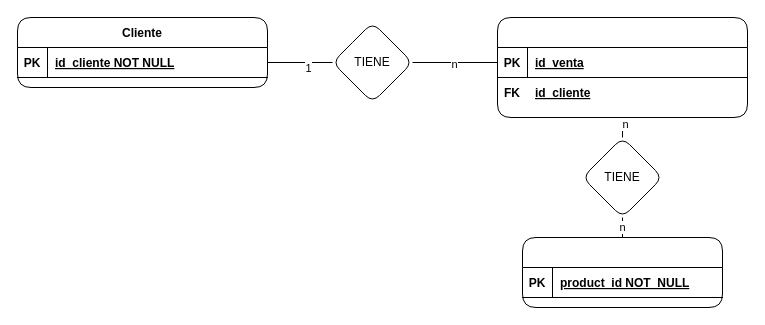
The diagram is 765 pixels wide and 325 high, and some of its shapes have lost their labels. Here are the shapes that lost their labels. From the top down, the box of each, then its label:
(496, 16, 748, 118): Ventas
(522, 236, 722, 308): Producto
